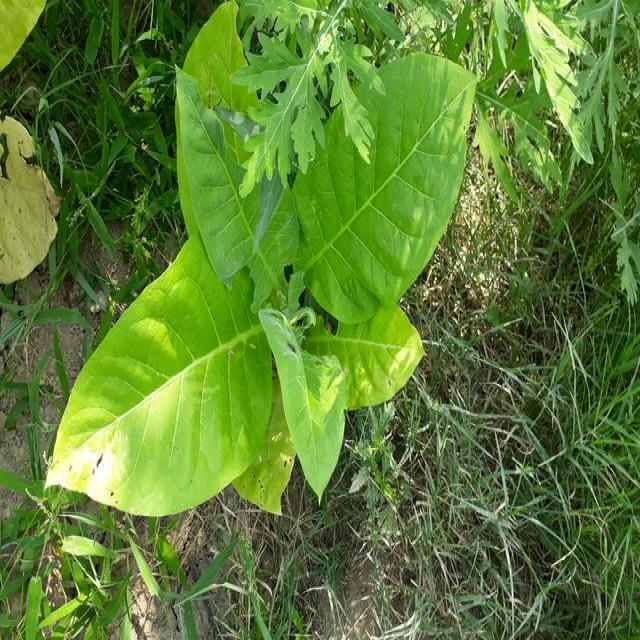crop: (89, 36, 473, 534), (4, 107, 54, 285)
